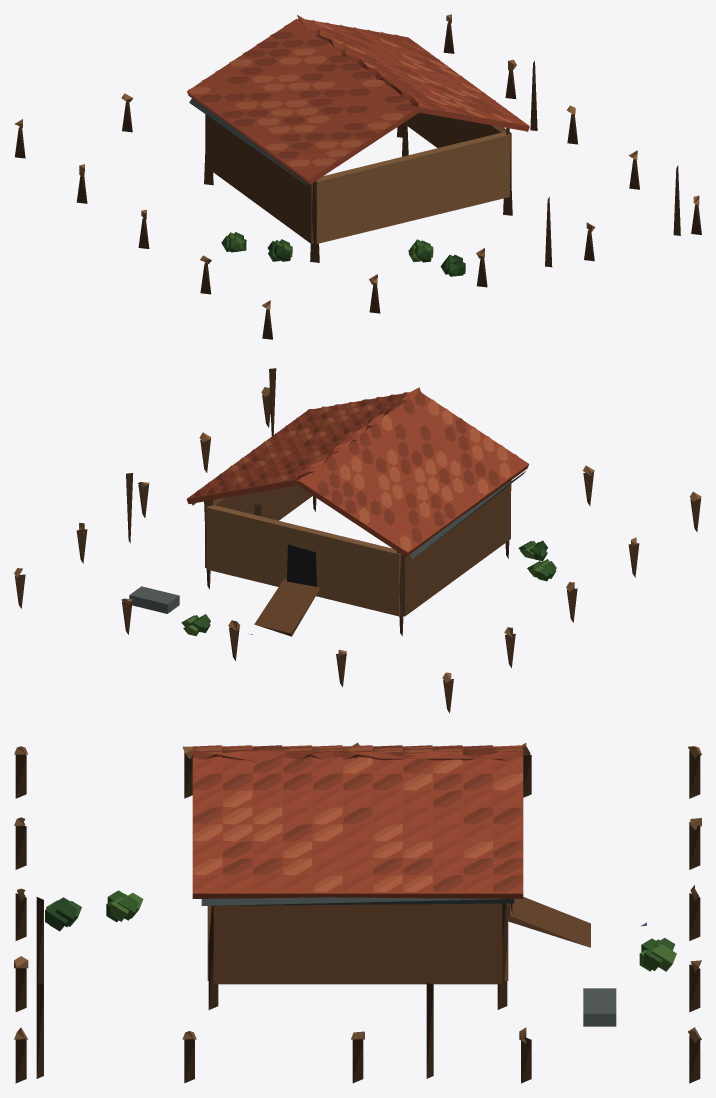
The model's file is chicken_coop.glb.
The picture shows the model from 3 angles, top to bottom: view 1: azimuth 30°, elevation 25°; view 2: azimuth 150°, elevation 25°; view 3: azimuth 270°, elevation 25°; orthographic projection. The views are drawn at different scales.
Size of the model in its own units: 5.52 by 1.7 by 5.52.
